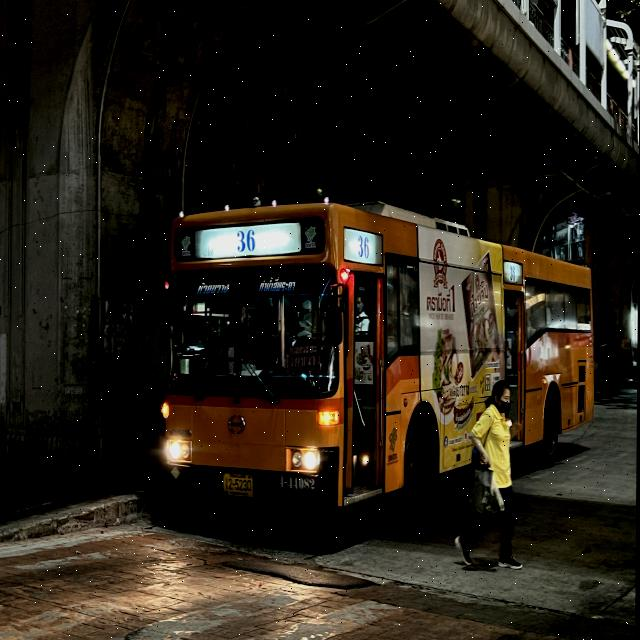BMTA-bus: (143, 183, 603, 541)
Bus Line Number: (231, 227, 263, 254), (353, 231, 373, 262)
Bus Side Number: (275, 471, 320, 496)
Destination Sign: (283, 342, 322, 372)
